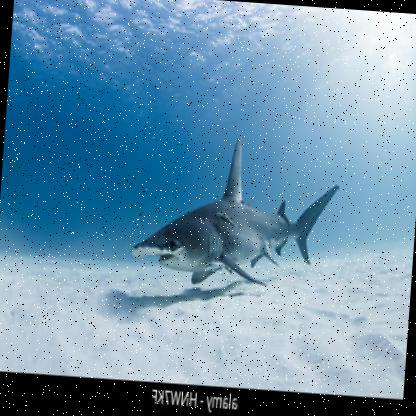hammerhead_Shark: (124, 103, 354, 320)
